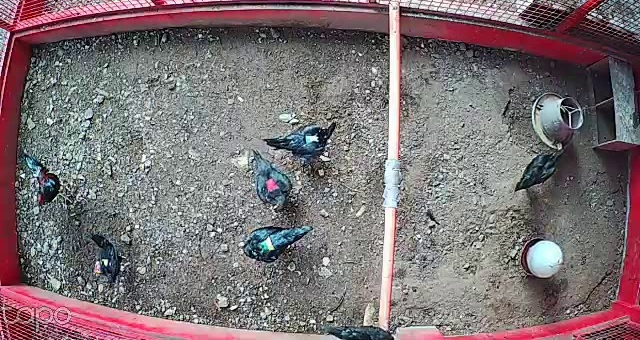Chicken: (239, 217, 315, 266), (245, 145, 294, 219), (260, 119, 338, 163), (511, 145, 566, 196), (91, 230, 129, 290)
Rooster: (18, 151, 76, 209)
Saddle_Color_Red: (265, 176, 280, 191)
Saddle_Color_Yellow: (100, 259, 113, 266)
Saddle_Color_YellowGreen: (259, 236, 274, 253)
